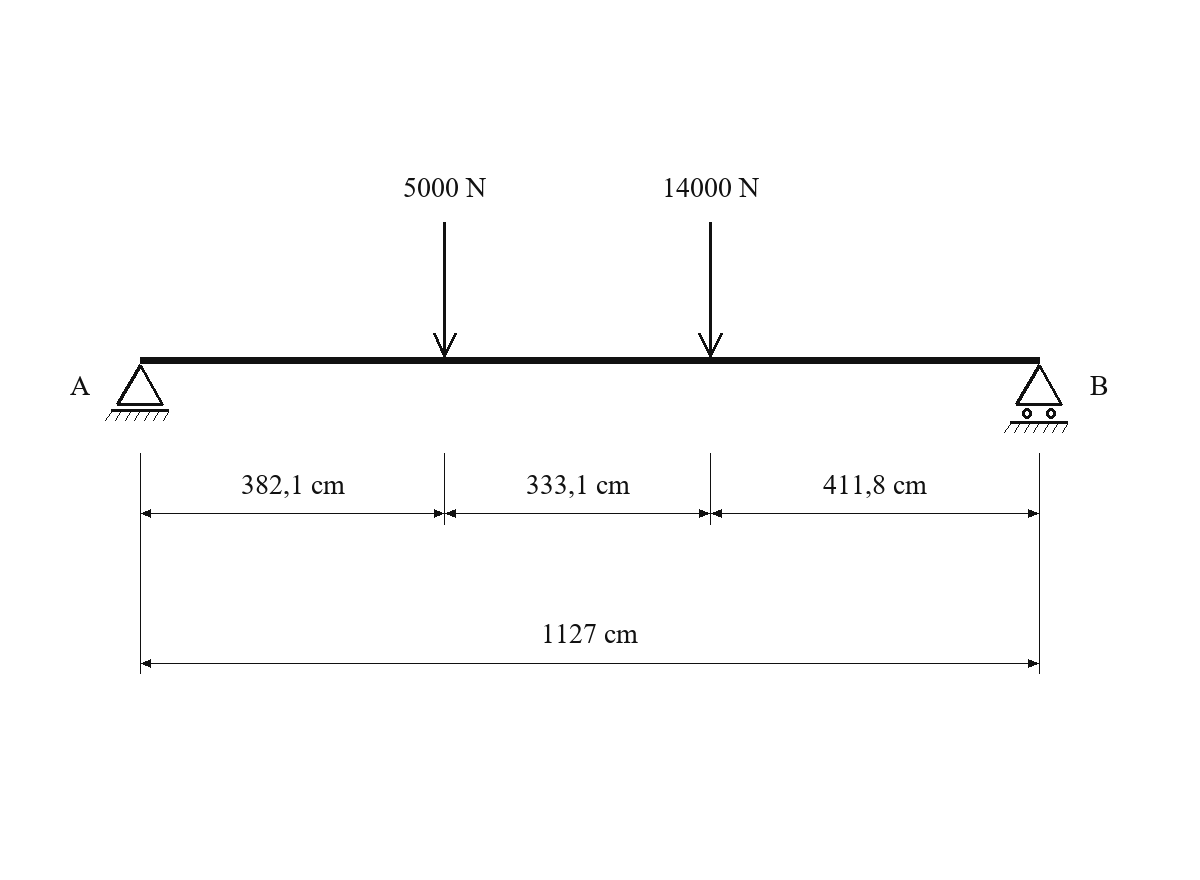pin_support: (105, 364, 169, 421)
point_load: (698, 222, 723, 357), (433, 222, 457, 357)
roller_support: (1004, 364, 1068, 433)
